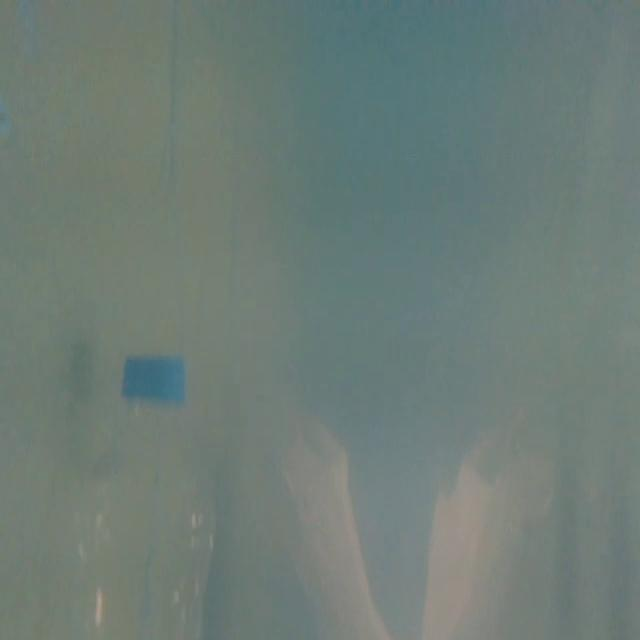plastic bags: (268, 401, 383, 640), (413, 432, 536, 640)
plastic bottle: (68, 353, 226, 640)
